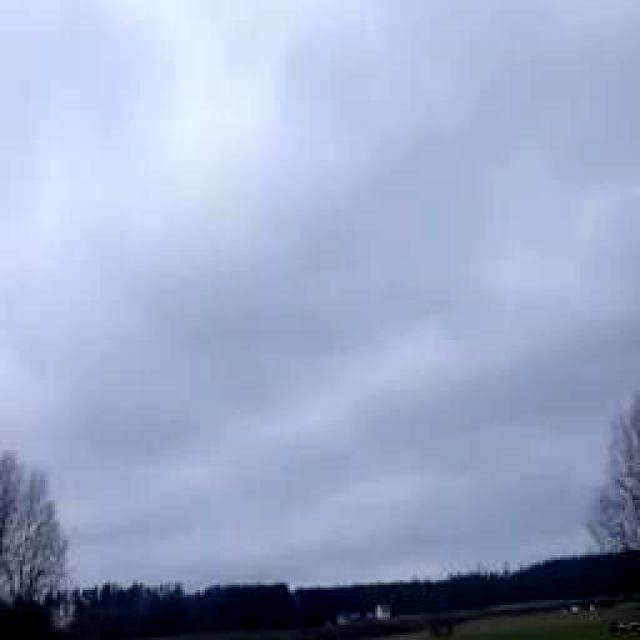bird: (596, 598, 640, 640)
